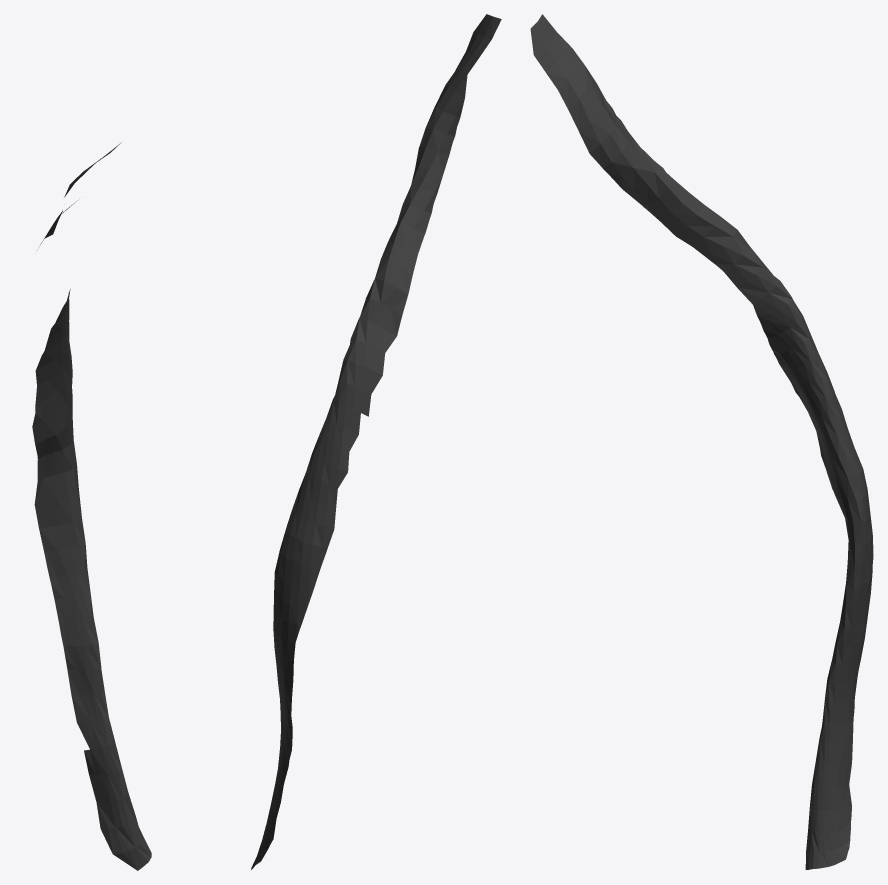
The model's file is eq_dist_limb_Lat_Palmar_Nerve.glb.
The picture shows the model from 3 angles, left to right: view 1: azimuth 30°, elevation 25°; view 2: azimuth 150°, elevation 25°; view 3: azimuth 270°, elevation 25°; orthographic projection. The views are drawn at different scales.
Visible parts, largest first — view 1: eq_dist_limb_Lat_Palmar_Nerve; view 2: eq_dist_limb_Lat_Palmar_Nerve; view 3: eq_dist_limb_Lat_Palmar_Nerve.
Part boxes in pixels (x1,y1,x2,y2): eq_dist_limb_Lat_Palmar_Nerve: [32, 142, 151, 870]; eq_dist_limb_Lat_Palmar_Nerve: [251, 14, 501, 869]; eq_dist_limb_Lat_Palmar_Nerve: [530, 14, 873, 869].
Bounding box in the file's own units: 0.00152 × 0.0101 × 0.00389.
1 material, 1 textured.
